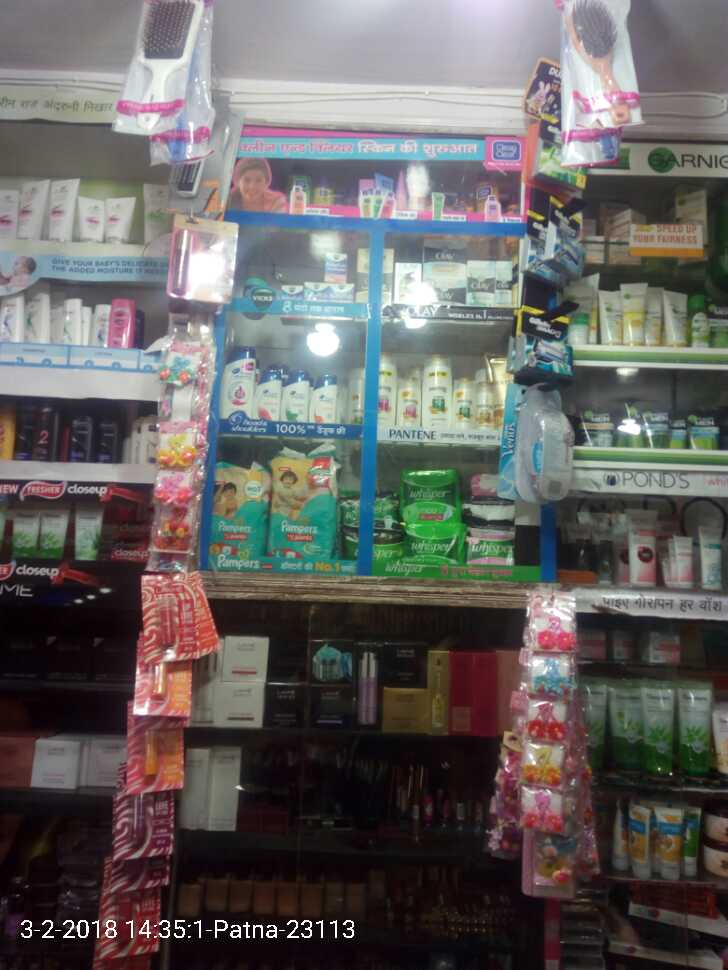beauty: (522, 313, 575, 384), (550, 208, 589, 274), (421, 355, 453, 431), (222, 342, 255, 415), (420, 235, 466, 276), (375, 352, 400, 427), (397, 374, 428, 432), (279, 371, 313, 421), (310, 370, 340, 424), (450, 380, 475, 438), (466, 259, 493, 308), (255, 364, 279, 418), (478, 381, 498, 435), (494, 261, 517, 303)
pharmacy: (274, 450, 338, 568), (207, 458, 271, 569), (405, 519, 461, 568), (398, 472, 459, 515), (464, 524, 512, 562), (300, 276, 361, 303), (322, 246, 349, 279)
